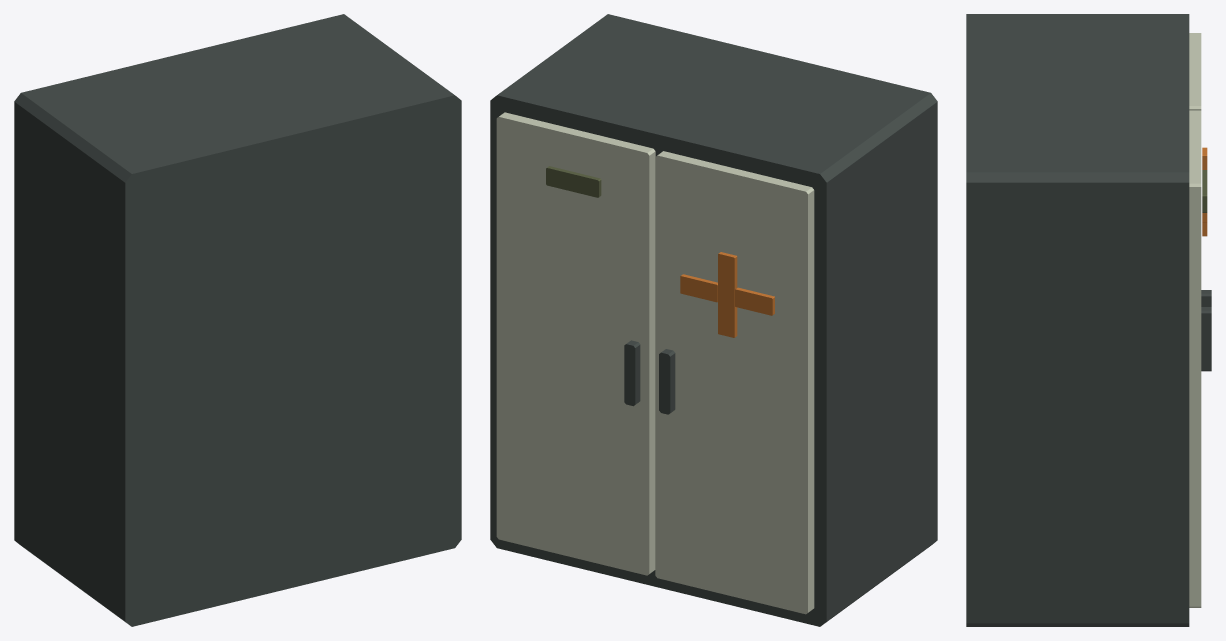
Rendered from MedicalCabinet.gltf.
The picture shows the model from 3 angles, left to right: view 1: azimuth 30°, elevation 25°; view 2: azimuth 150°, elevation 25°; view 3: azimuth 270°, elevation 25°; orthographic projection.
Parts seen in each view (by area): view 1: MedicalCabinet; view 2: MedicalCabinet; view 3: MedicalCabinet.
Boxes of the visible parts, left/top/right/bottom form: MedicalCabinet: left=14, top=14, right=461, bottom=626; MedicalCabinet: left=490, top=14, right=937, bottom=626; MedicalCabinet: left=966, top=14, right=1211, bottom=626.
Size of the model in its own units: 0.7 by 0.9 by 0.4405.
